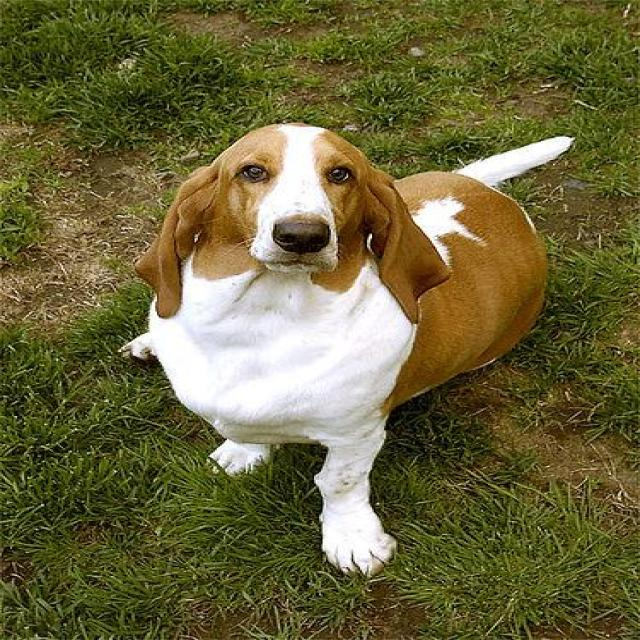basset: (107, 119, 574, 580)
